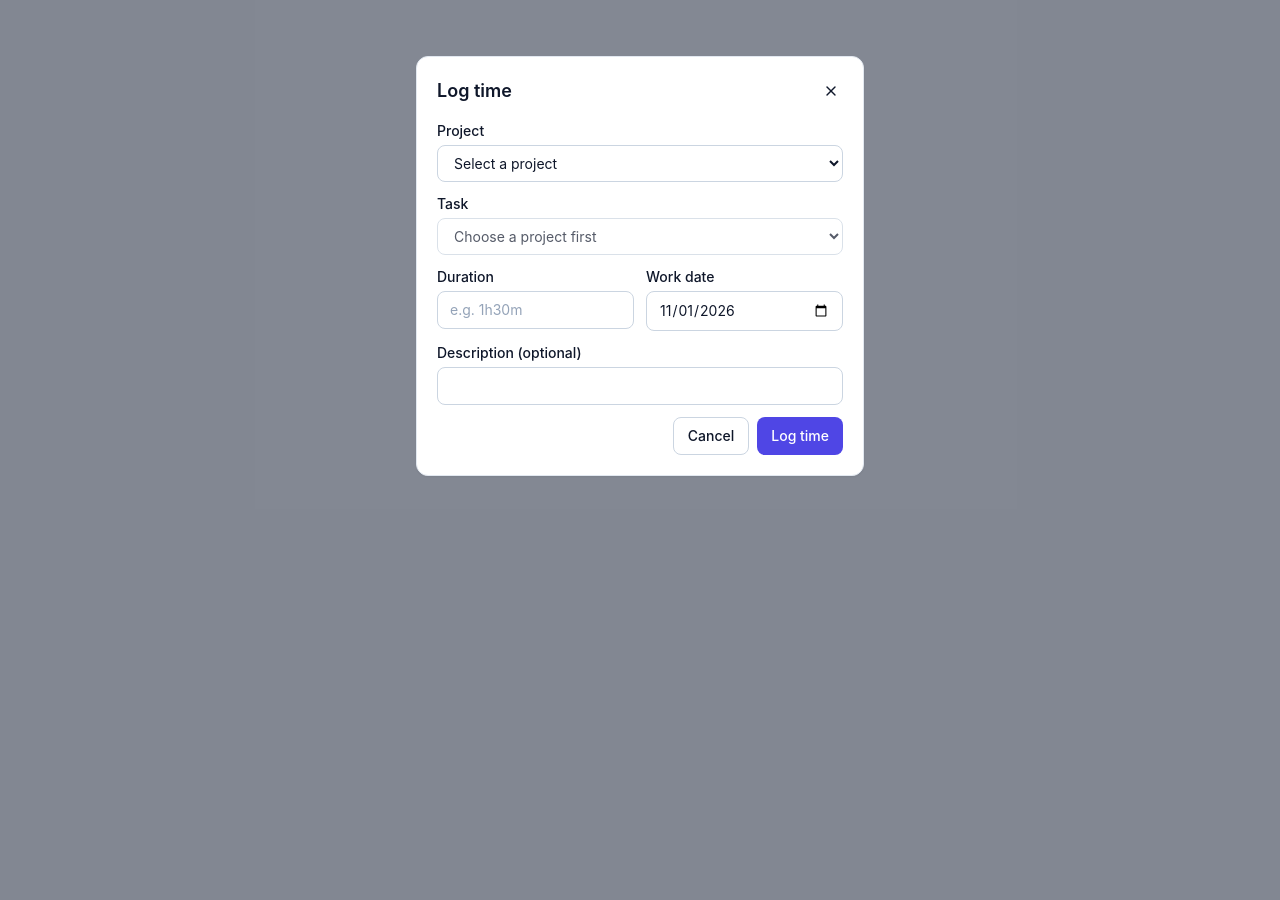
Test: LogTimeModal - manual entry › shows validation errors and sends nothing when the form is empty
This screenshot has width=1280, height=900.
Click the button "Log time".
click(800, 436)  # box 757,417 -> 843,455
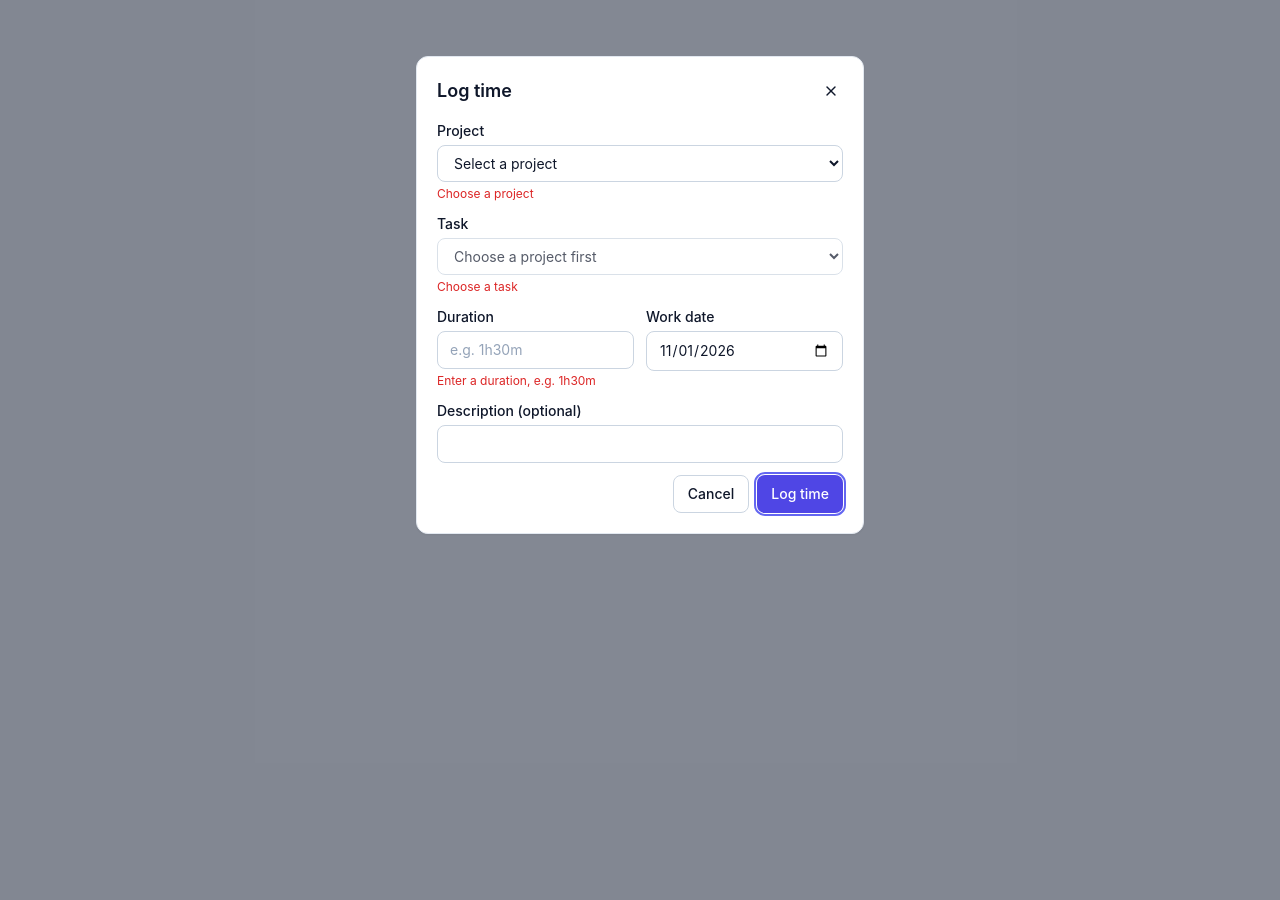
Expected: the text "Choose a project" is shown, 437,186 -> 534,201
Expected: the text "Choose a task" is shown, 437,279 -> 518,294
Expected: the text "Enter a duration, e.g. 1h30m" is shown, 437,373 -> 596,388
